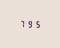five: (33, 20, 39, 28)
nine: (26, 19, 32, 28)
seven: (18, 19, 24, 27)
